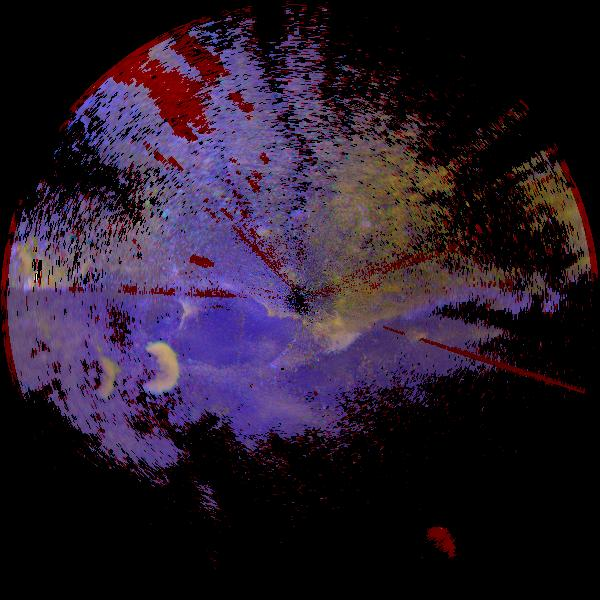roost: (112, 322, 202, 412), (59, 340, 134, 415), (411, 513, 471, 573)
